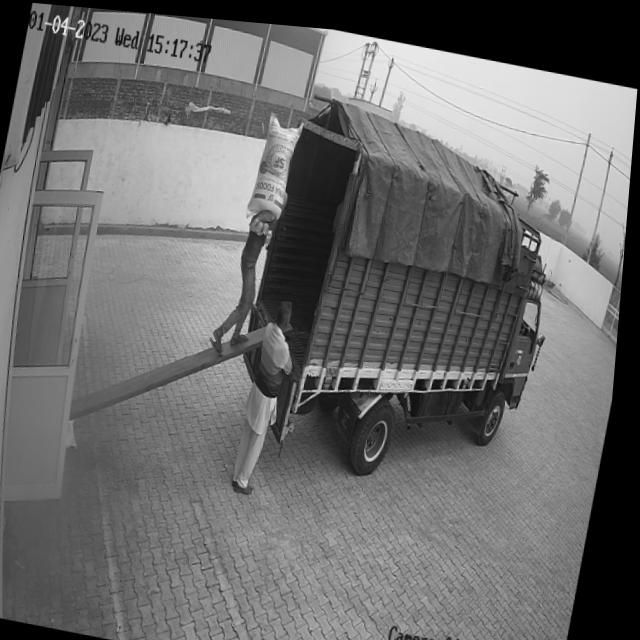sack: (247, 105, 306, 219)
